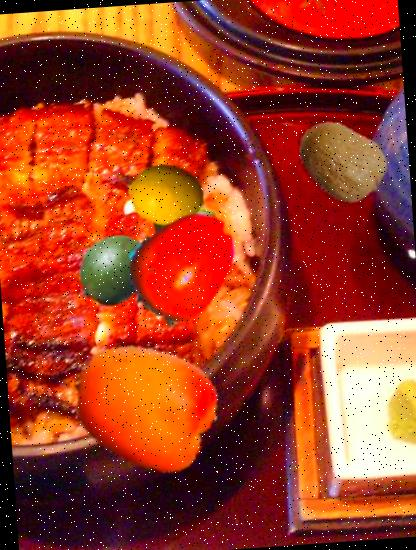Apricot: (66, 329, 222, 485)
Kaki: (118, 200, 248, 330)
Kiwi: (292, 112, 392, 212)
Lemon: (125, 152, 209, 236)
Mango: (71, 227, 154, 310)
Melon: (150, 190, 222, 262)
